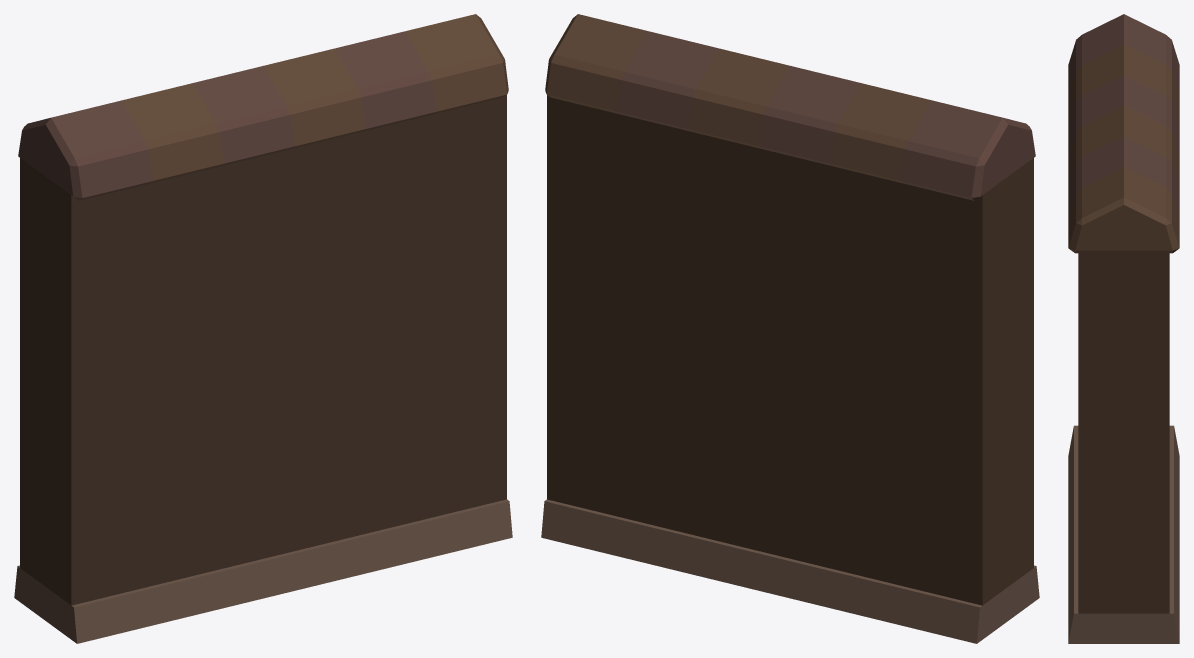
File: Wall_3_Light_Brown.fbx
3 renders of one model, left to right at view 1: azimuth 30°, elevation 25°; view 2: azimuth 150°, elevation 25°; view 3: azimuth 270°, elevation 25°, orthographic. The views are drawn at different scales.
Parts seen in each view (by area): view 1: Wall_3_Light_Brown; view 2: Wall_3_Light_Brown; view 3: Wall_3_Light_Brown.
Boxes of the visible parts, bbox=[...] form: Wall_3_Light_Brown: bbox=[14, 14, 512, 643]; Wall_3_Light_Brown: bbox=[541, 14, 1039, 643]; Wall_3_Light_Brown: bbox=[1068, 14, 1179, 643].
Bounding box in the file's own units: 400 × 441 × 100.
